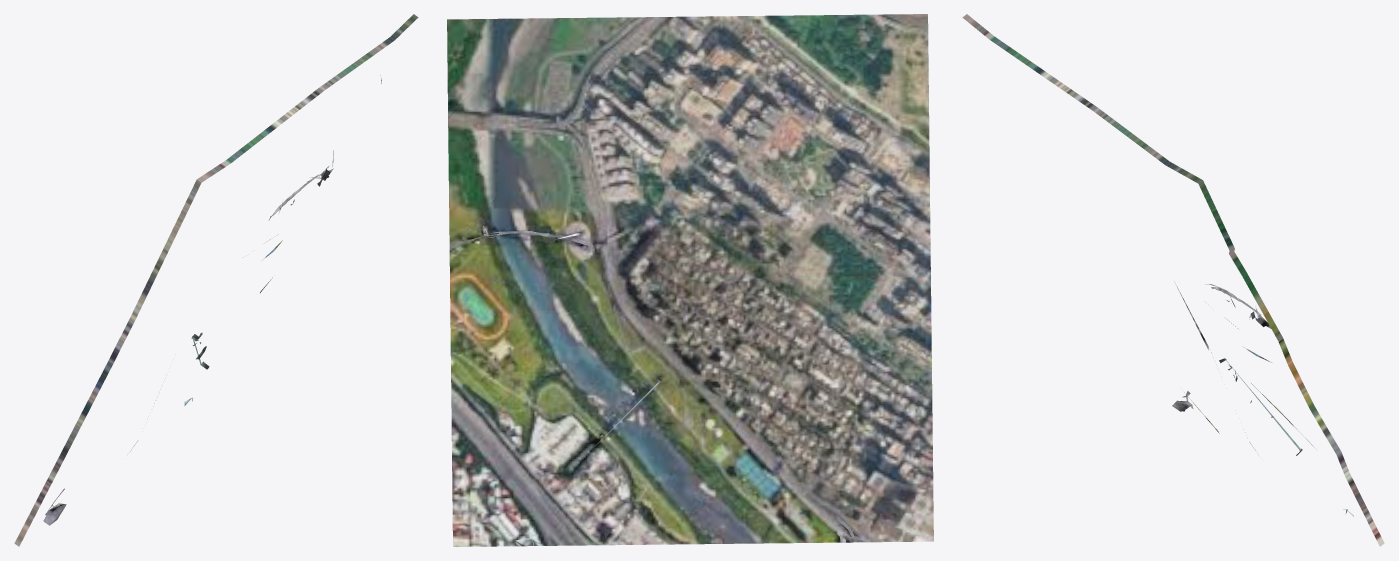
3 views of the same model, side by side, from view 1: azimuth 30°, elevation 25°; view 2: azimuth 150°, elevation 25°; view 3: azimuth 270°, elevation 25° (orthographic). The views are drawn at different scales.
Size of the model in its own units: 1224 by 1118 by 1028.
1 material, 1 textured.
